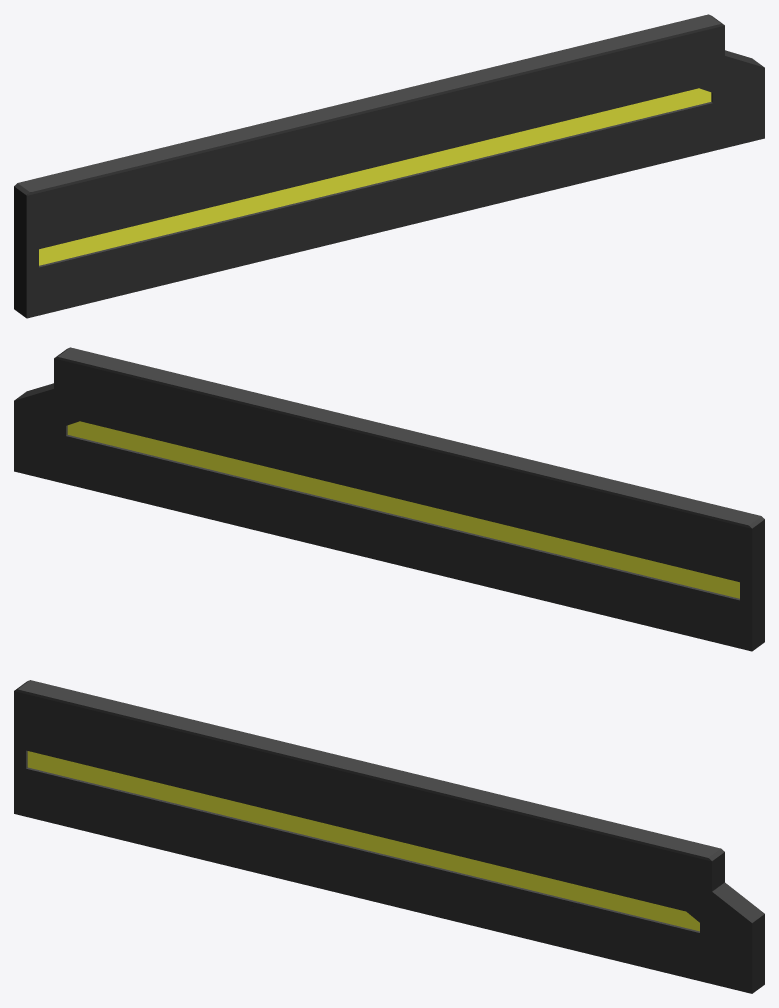
Rendered from build_big1.fbx.
3 renders of one model, top to bottom at view 1: azimuth 30°, elevation 25°; view 2: azimuth 150°, elevation 25°; view 3: azimuth 330°, elevation 25°, orthographic.
Parts seen in each view (by area): view 1: build_big1; view 2: build_big1; view 3: build_big1.
Part boxes in pixels (box(x1,y1,x2,y2)): build_big1: box(14, 14, 764, 318); build_big1: box(14, 347, 764, 651); build_big1: box(14, 680, 764, 993).
Bounding box in the file's own units: 13302 × 2158 × 400.
